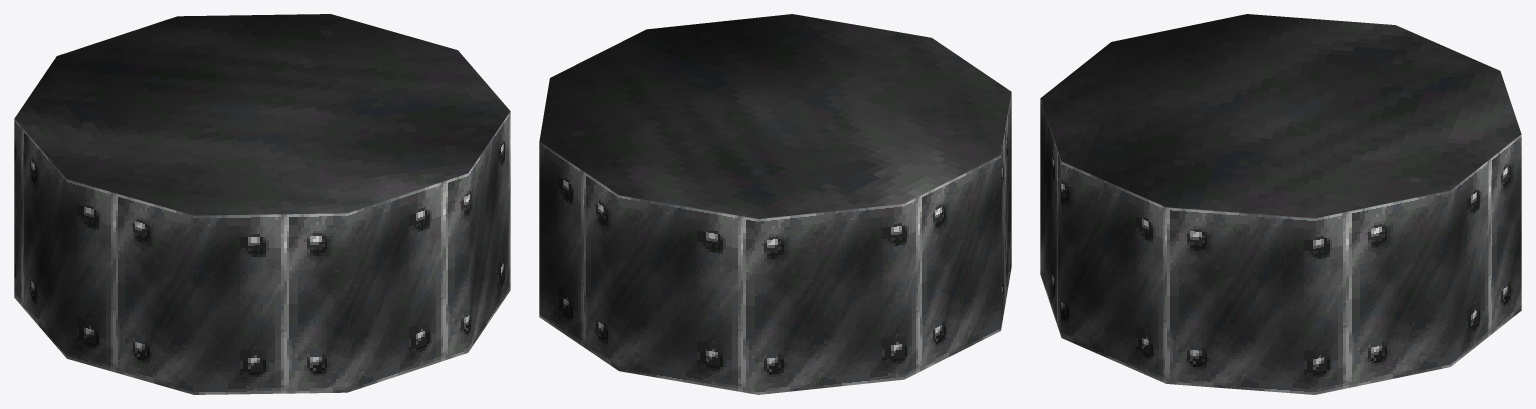
Rendered from SWORDLIGHT20_JAILWHEELMOUNT01.fbx.
3 views of the same model, side by side, from view 1: azimuth 30°, elevation 25°; view 2: azimuth 150°, elevation 25°; view 3: azimuth 270°, elevation 25° (orthographic).
Parts seen in each view (by area): view 1: SWORDLIGHT20_JAILWHEELMOUNT01; view 2: SWORDLIGHT20_JAILWHEELMOUNT01; view 3: SWORDLIGHT20_JAILWHEELMOUNT01.
Part boxes in pixels (x1,y1,x2,y2): SWORDLIGHT20_JAILWHEELMOUNT01: (14, 14, 510, 394); SWORDLIGHT20_JAILWHEELMOUNT01: (539, 14, 1011, 394); SWORDLIGHT20_JAILWHEELMOUNT01: (1040, 14, 1521, 394).
Bounding box in the file's own units: 13864 × 5583 × 13787.
Materials: 1 (1 with a texture image).
